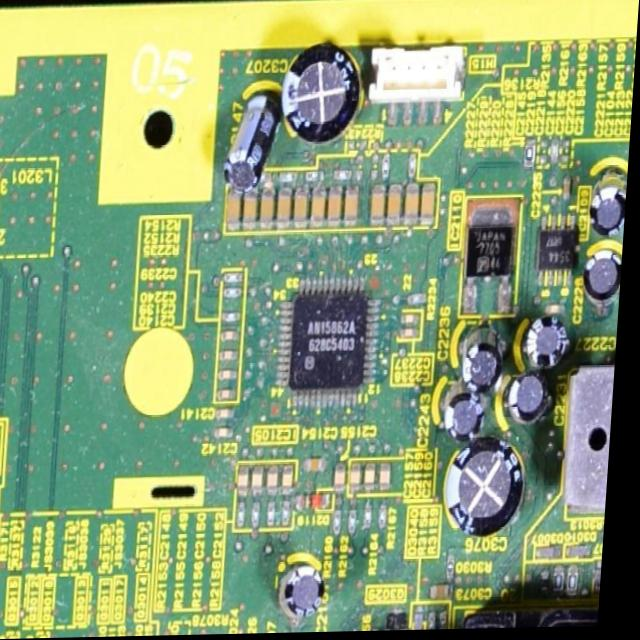IC: (281, 278, 390, 404), (467, 218, 521, 311), (539, 214, 588, 291)
capacitor: (278, 41, 369, 157), (448, 448, 539, 543), (225, 87, 279, 195), (460, 338, 510, 402), (281, 565, 330, 622), (527, 316, 571, 376), (586, 251, 626, 310), (513, 374, 558, 426), (589, 194, 629, 241), (452, 403, 494, 443), (370, 621, 449, 633), (485, 258, 508, 299), (274, 189, 299, 226), (225, 187, 246, 230), (260, 189, 280, 230), (370, 185, 388, 230), (345, 184, 363, 229), (405, 184, 424, 225), (293, 190, 314, 224), (243, 193, 263, 228), (388, 185, 406, 223), (383, 459, 401, 496), (340, 460, 357, 496), (431, 583, 460, 603), (424, 184, 438, 222), (325, 194, 344, 221), (369, 462, 384, 496), (287, 461, 302, 494), (313, 194, 328, 227), (271, 465, 285, 496), (356, 464, 369, 496), (243, 470, 258, 496), (258, 466, 271, 493)
connector: (368, 41, 476, 106)
resistor: (366, 495, 382, 533), (522, 142, 539, 172), (351, 507, 366, 539), (382, 503, 396, 534), (548, 142, 562, 166), (340, 513, 352, 539)
transistor: (390, 608, 423, 633)
